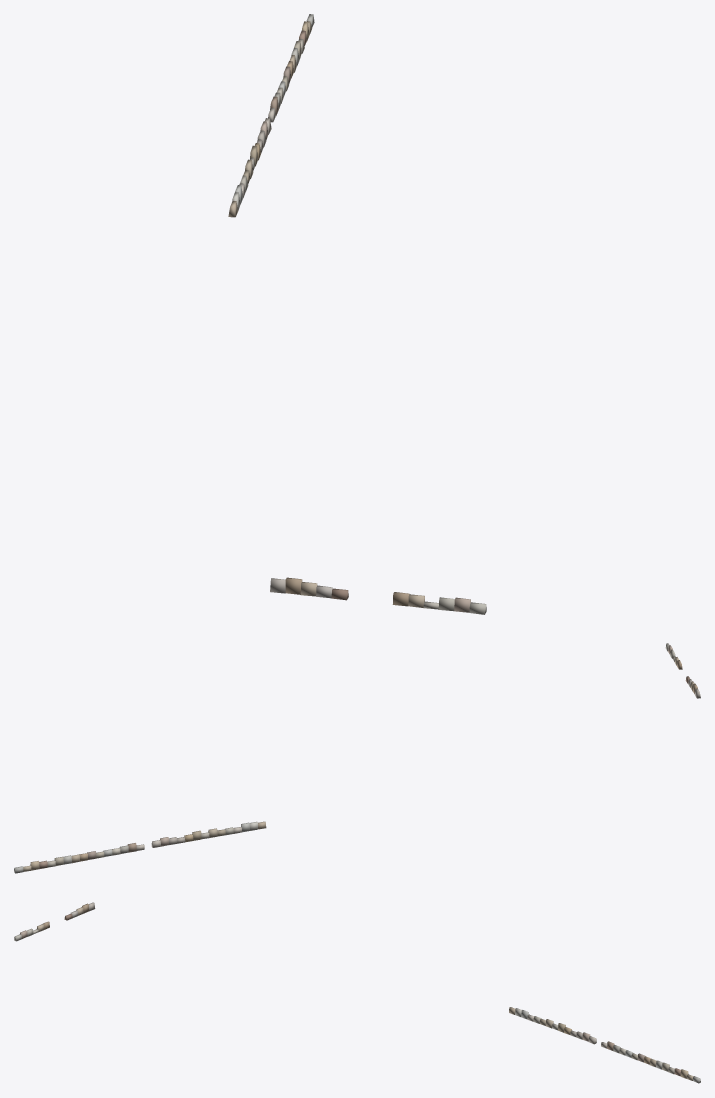
File: farm_6_20_far.glb
3 renders of one model, top to bottom at view 1: azimuth 30°, elevation 25°; view 2: azimuth 150°, elevation 25°; view 3: azimuth 270°, elevation 25°, orthographic. The views are drawn at different scales.
Visible parts, largest first — view 1: geometry_0; view 2: geometry_0; view 3: geometry_0.
Boxes of the visible parts, x1,y1,x2,y2 form: geometry_0: (228, 14, 486, 614); geometry_0: (14, 643, 700, 873); geometry_0: (14, 902, 700, 1083).
Bounding box in the file's own units: 74.22 × 5.18 × 136.
